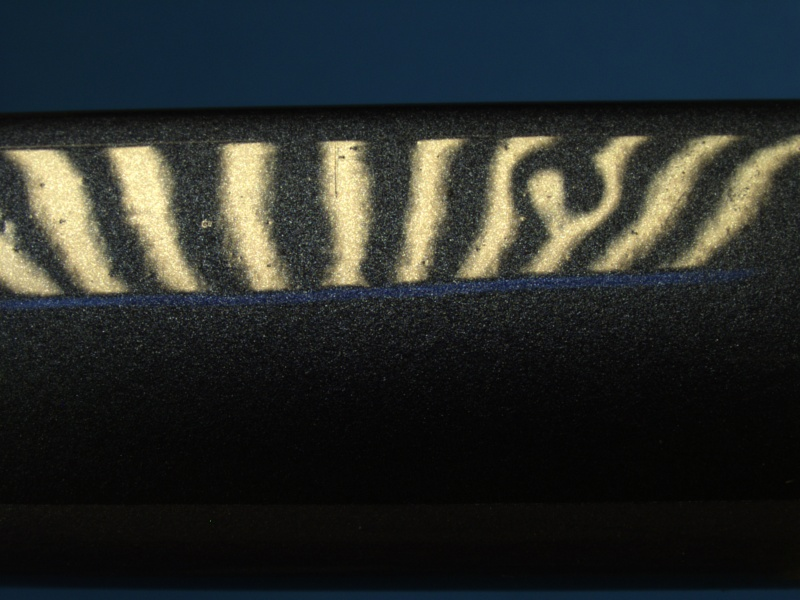bad: (505, 148, 625, 230)
